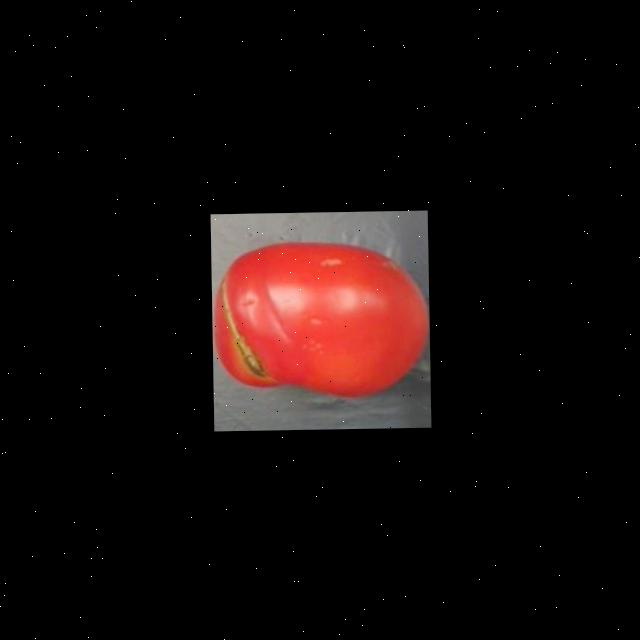tomato: (210, 238, 429, 414)
